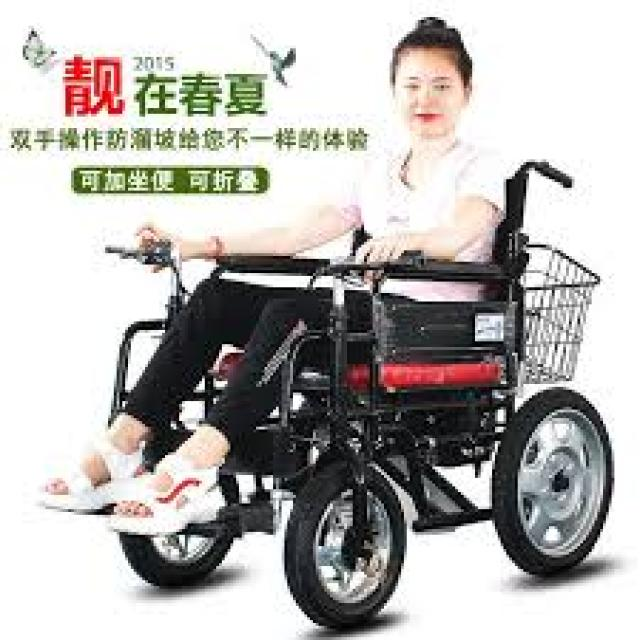wheelchairs: (68, 154, 626, 626)
